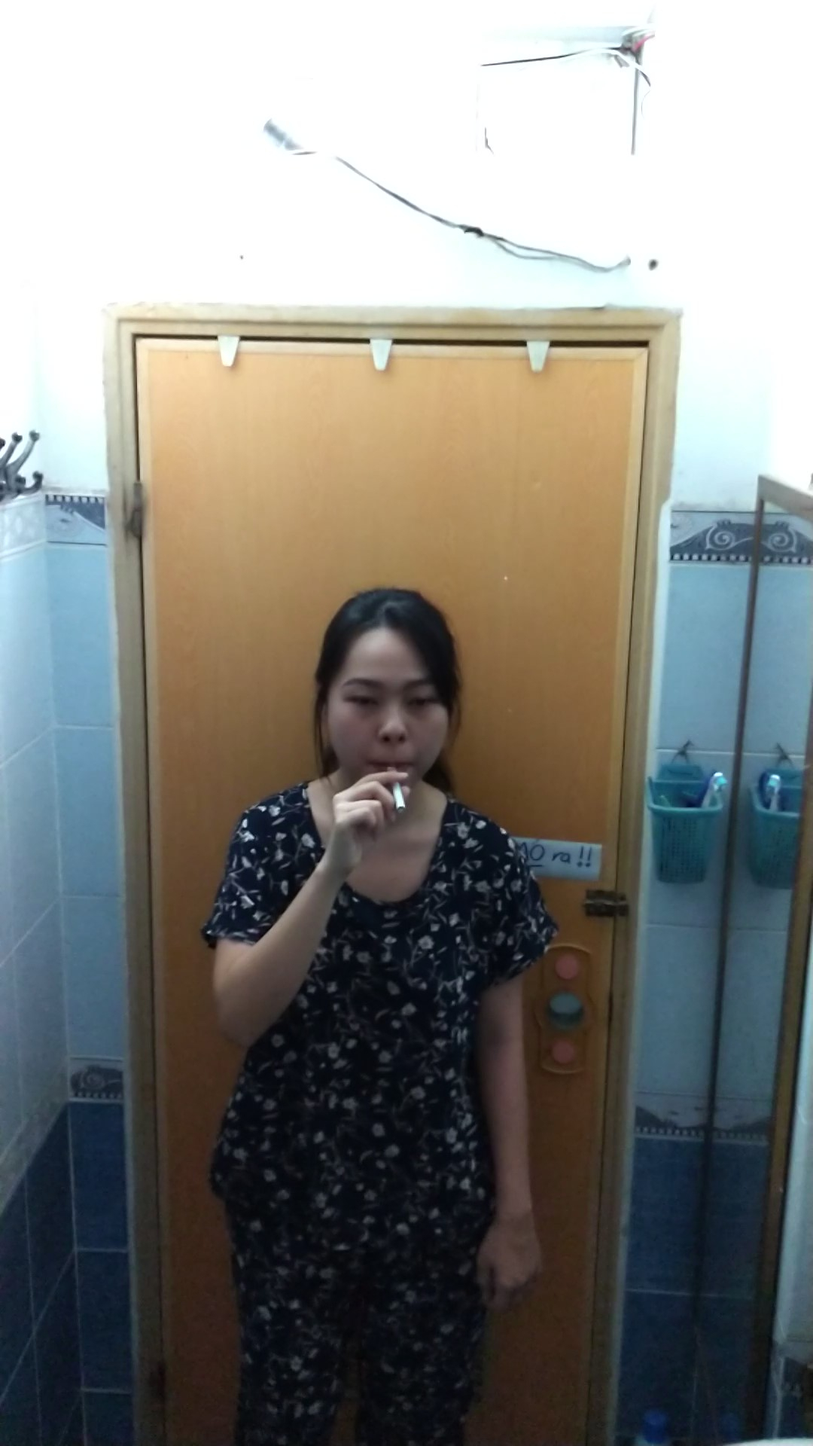cigarette: (387, 779, 413, 818)
person: (193, 567, 576, 1446)
